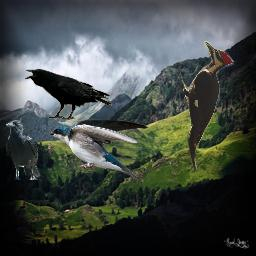Crow: (25, 69, 113, 120), (6, 120, 40, 180)
Swallow: (48, 118, 149, 180)
Woodpecker: (175, 41, 234, 170)
